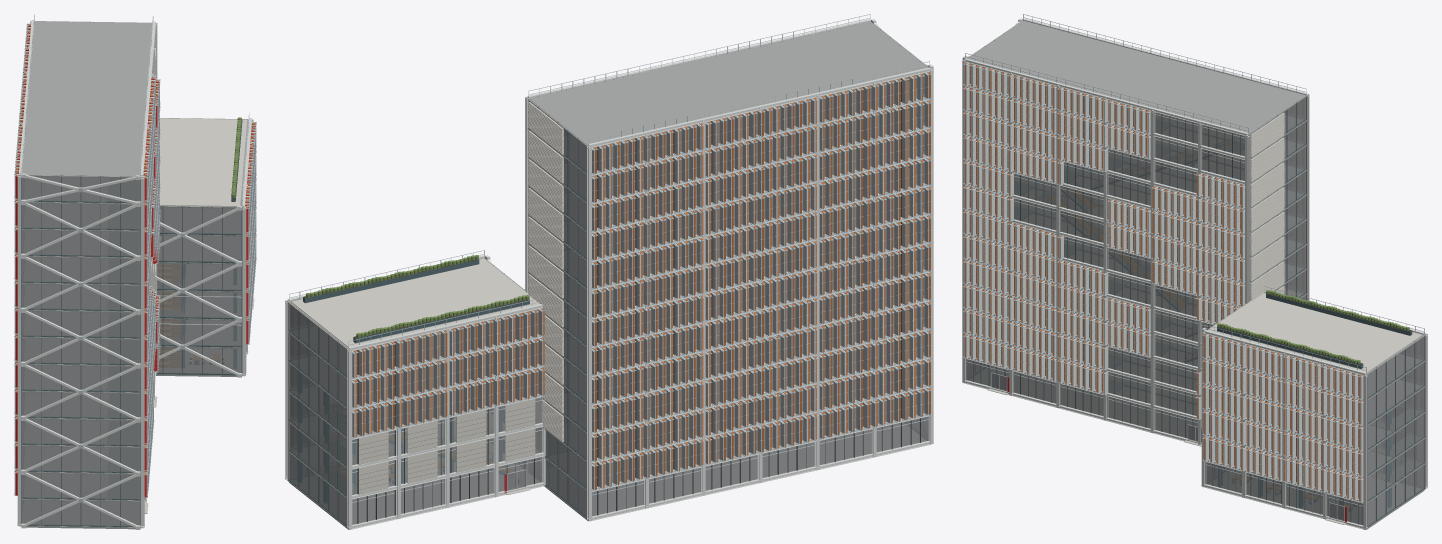
File: cbg-exterior-21208474234c.glb
3 renders of one model, left to right at view 1: azimuth 30°, elevation 25°; view 2: azimuth 150°, elevation 25°; view 3: azimuth 270°, elevation 25°, orthographic. The views are drawn at different scales.
Visible parts, largest first — view 1: CBG.001; view 2: CBG.001; view 3: CBG.001.
Boxes of the visible parts, bbox=[...] form: CBG.001: bbox=[14, 14, 256, 529]; CBG.001: bbox=[285, 14, 933, 529]; CBG.001: bbox=[962, 14, 1427, 529].
Size of the model in its own units: 66.1 by 53.56 by 68.49.
